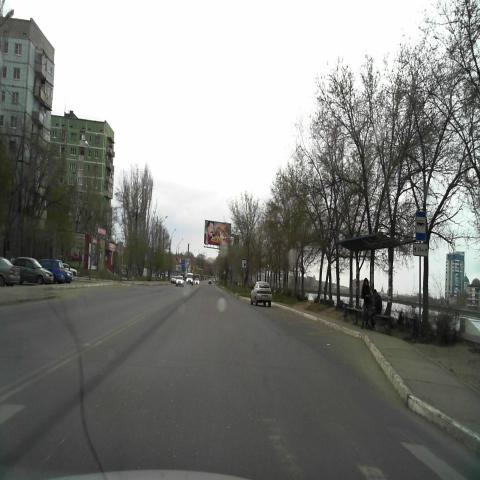5_16: (416, 210, 426, 240)
